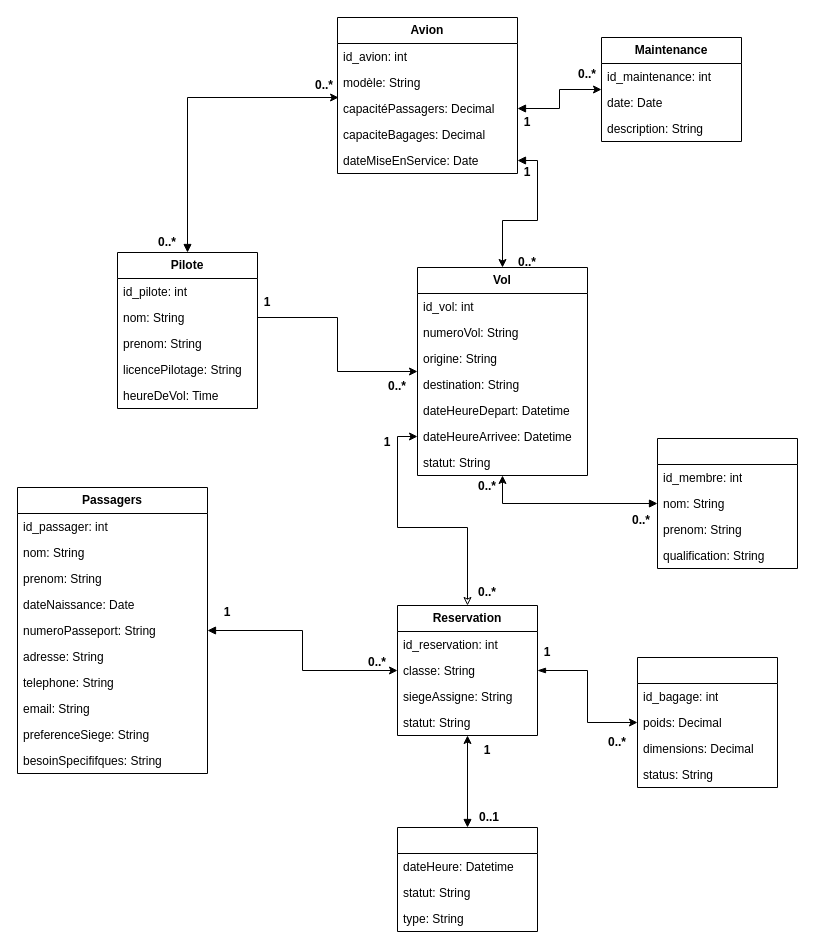
Some shapes in this 815 by 952 pixel diagram are drawn without their labels. Each missing label, with the box of its shape:
Bagages: (636, 656, 778, 788)
Check-in: (396, 826, 538, 932)
MembreEquipage: (656, 438, 798, 568)
